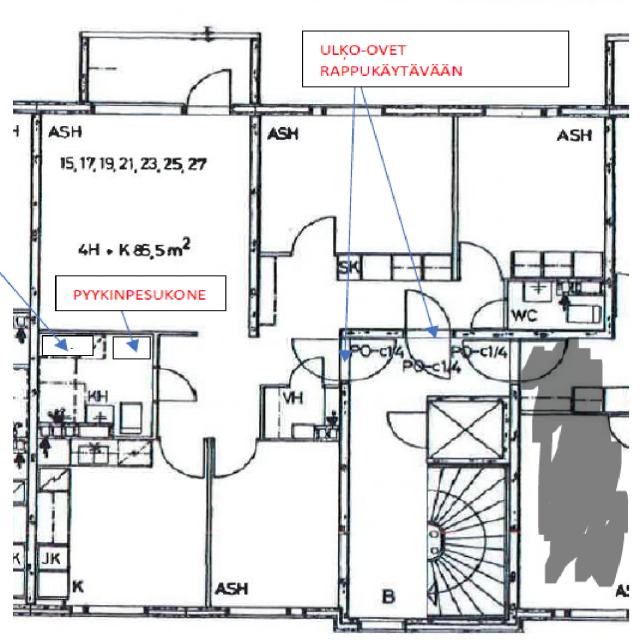door: (294, 339, 349, 381), (341, 339, 396, 381), (188, 64, 230, 114), (406, 292, 450, 338), (406, 330, 450, 376), (160, 436, 204, 478), (292, 214, 334, 256), (214, 436, 258, 476), (460, 240, 501, 280), (153, 368, 193, 401), (290, 354, 323, 387), (471, 300, 508, 328)
